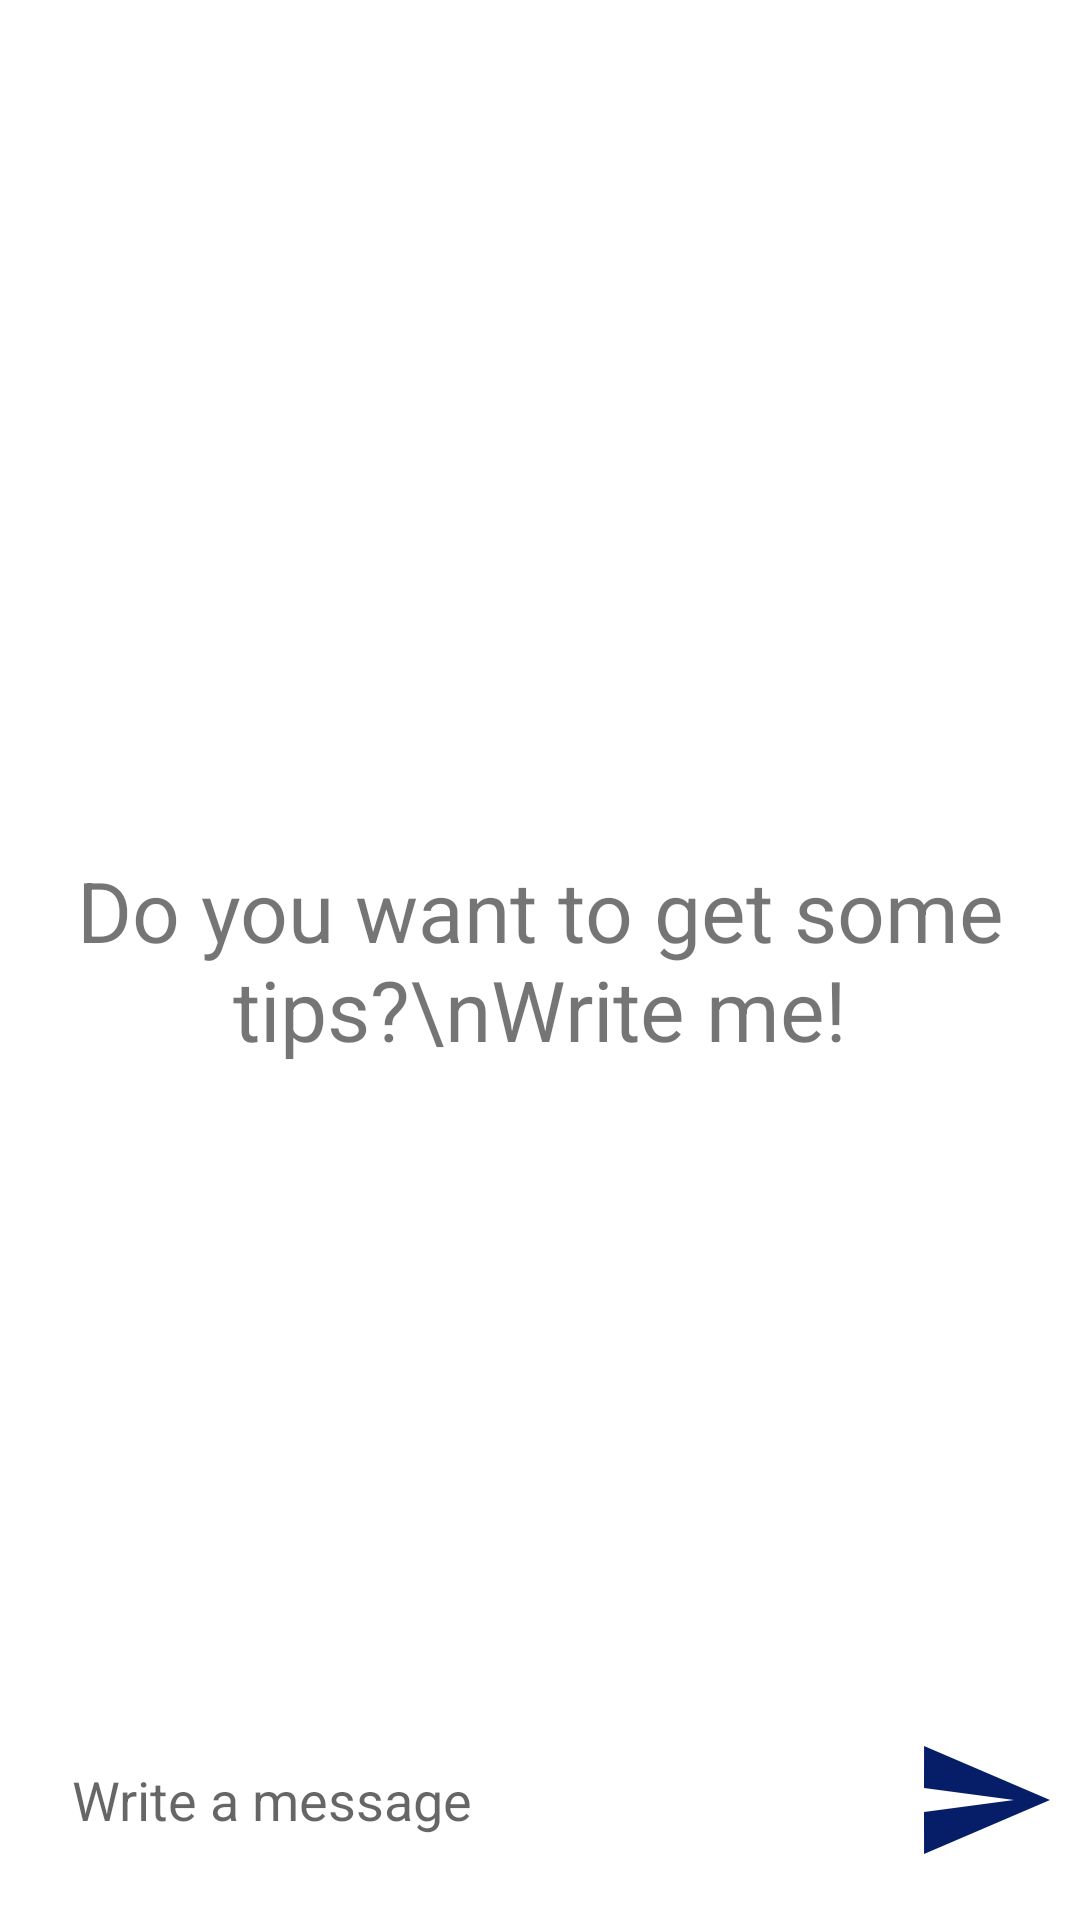

Locate icon controls on the screen. Image size 1080*1920, boxes as [left=x1, top=y1, right=x2, bottom=y2].
send: [left=924, top=1746, right=1050, bottom=1854]
